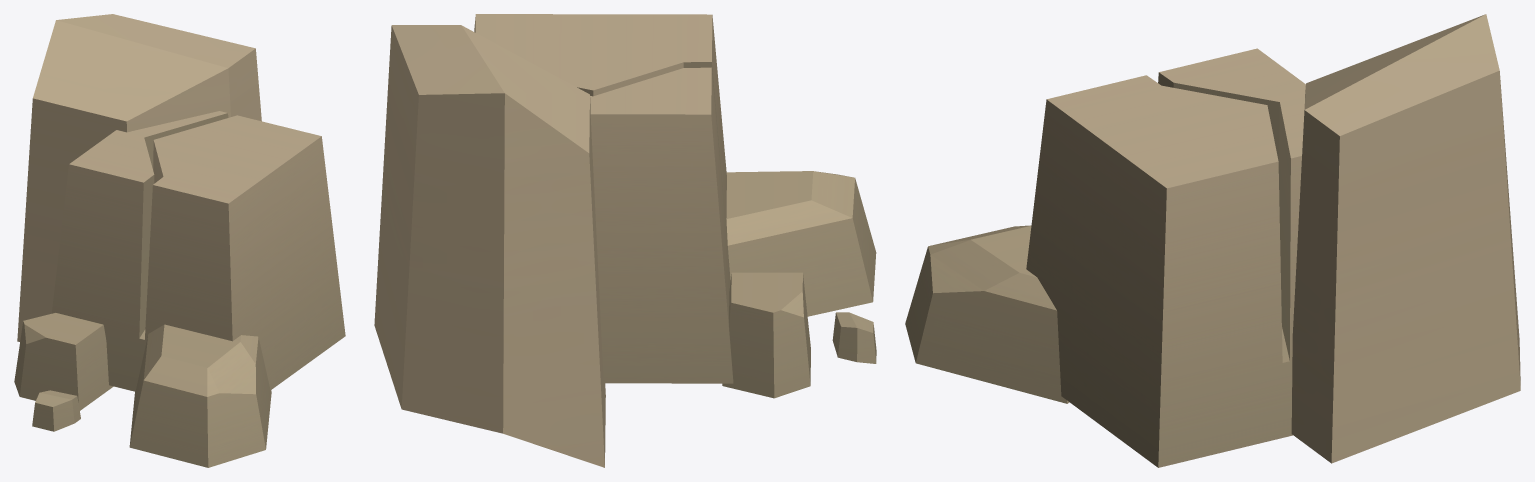
The model's file is Rock+9.fbx.
The picture shows the model from 3 angles, left to right: view 1: azimuth 30°, elevation 25°; view 2: azimuth 150°, elevation 25°; view 3: azimuth 270°, elevation 25°; orthographic projection. The views are drawn at different scales.
Parts seen in each view (by area): view 1: Rock 9; view 2: Rock 9; view 3: Rock 9.
Part boxes in pixels (x1,y1,x2,y2): Rock 9: (14,14,345,467); Rock 9: (374,14,876,467); Rock 9: (905,14,1520,467).
Bounding box in the file's own units: 212 × 184 × 267.
